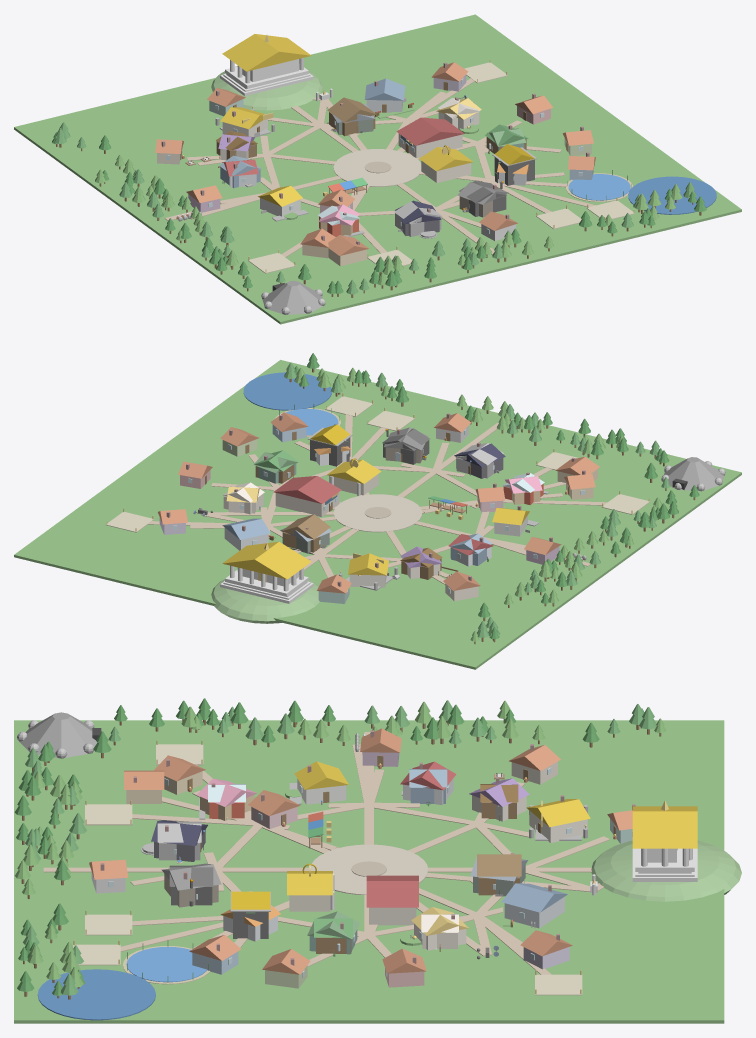
File: office.glb
The picture shows the model from 3 angles, top to bottom: view 1: azimuth 30°, elevation 25°; view 2: azimuth 150°, elevation 25°; view 3: azimuth 270°, elevation 25°; orthographic projection. The views are drawn at different scales.
Visible parts, largest first — view 1: tanah.001, plaza.001, aula_atap.001, lake.001, bukit_zeus.001, bukit_naga.001, pond.001, office_atap.001, bank_atap.001, athena_atap.001, daedalus_atap.003, office_dinding.001 (+11 smaller); view 2: tanah.001, bukit_zeus.001, plaza.001, lake.001, aula_atap.001, bukit_naga.001, office_atap.001, office_dinding.001, bank_atap.001, pond.001, zeus_atap.001, aula_lantai.001 (+8 smaller); view 3: tanah.001, bukit_zeus.001, lake.001, plaza.001, aula_atap.001, pond.001, bukit_naga.001, office_atap.001, athena_atap.001, zeus_atap.001, bank_atap.001, plot_1.001 (+45 smaller).
Part boxes in pixels (box(x1,y1,x2,y2)): tanah.001: box(14, 14, 741, 324); plaza.001: box(333, 149, 421, 186); aula_atap.001: box(222, 34, 311, 71); lake.001: box(628, 176, 716, 214); bukit_zeus.001: box(211, 66, 322, 110); bukit_naga.001: box(262, 280, 322, 314); pond.001: box(568, 174, 630, 200); office_atap.001: box(396, 117, 464, 145); bank_atap.001: box(419, 147, 473, 171); athena_atap.001: box(364, 78, 405, 100); daedalus_atap.003: box(327, 97, 376, 122); office_dinding.001: box(398, 133, 462, 158); tanah.001: box(14, 360, 741, 669); bukit_zeus.001: box(211, 579, 319, 623); plaza.001: box(333, 494, 422, 532); lake.001: box(243, 372, 331, 410); aula_atap.001: box(222, 541, 311, 579); bukit_naga.001: box(664, 457, 724, 490); office_atap.001: box(273, 476, 341, 503); office_dinding.001: box(275, 492, 339, 517); bank_atap.001: box(327, 459, 381, 483); pond.001: box(286, 408, 338, 435); zeus_atap.001: box(348, 553, 388, 575); aula_lantai.001: box(225, 569, 308, 596); tanah.001: box(14, 720, 724, 1023); bukit_zeus.001: box(591, 840, 741, 901); lake.001: box(37, 969, 155, 1020); plaza.001: box(310, 844, 428, 894); aula_atap.001: box(632, 806, 697, 848); pond.001: box(126, 947, 206, 982); bukit_naga.001: box(19, 712, 97, 757); office_atap.001: box(366, 875, 418, 907); athena_atap.001: box(501, 883, 567, 912); zeus_atap.001: box(526, 799, 590, 827); bank_atap.001: box(287, 871, 332, 895); plot_1.001: box(85, 804, 132, 825).
Bounding box in the file's own units: 120 × 16.36 × 123.
